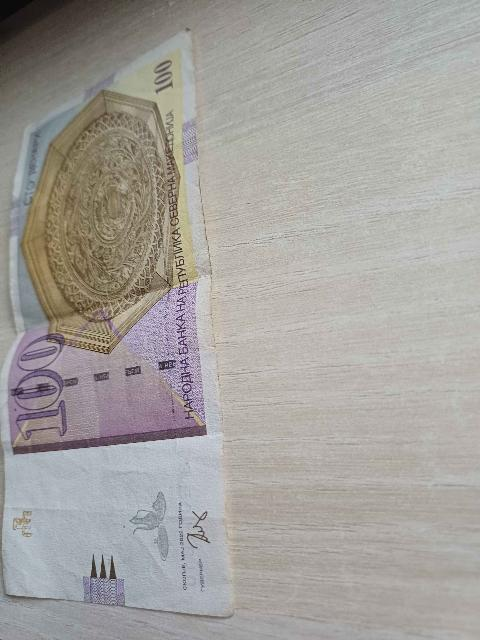100_note: (0, 28, 235, 623)
